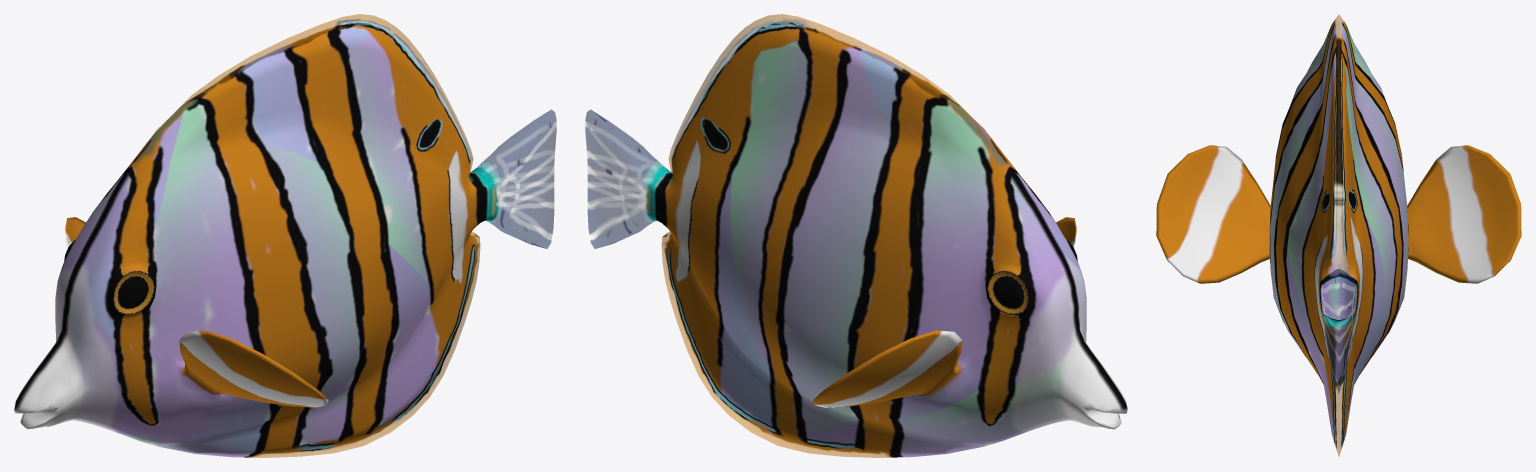
File: bfish .glb
The picture shows the model from 3 angles, left to right: view 1: azimuth 30°, elevation 25°; view 2: azimuth 150°, elevation 25°; view 3: azimuth 270°, elevation 25°; orthographic projection. The views are drawn at different scales.
Visible parts, largest first — view 1: Fish; view 2: Fish; view 3: Fish.
Boxes of the visible parts, box(x1,y1,x2,y2) form: Fish: box(14, 14, 556, 457); Fish: box(585, 14, 1127, 457); Fish: box(1156, 14, 1521, 456).
Bounding box in the file's own units: 2215 × 1695 × 1406.
1 material, 1 textured.
